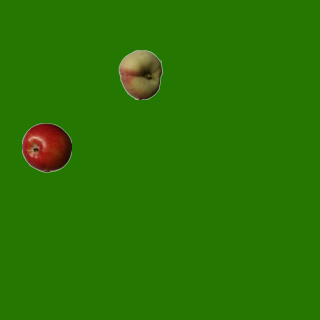Apple Braeburn: (21, 122, 71, 172)
Peach Flat: (115, 49, 165, 99)
